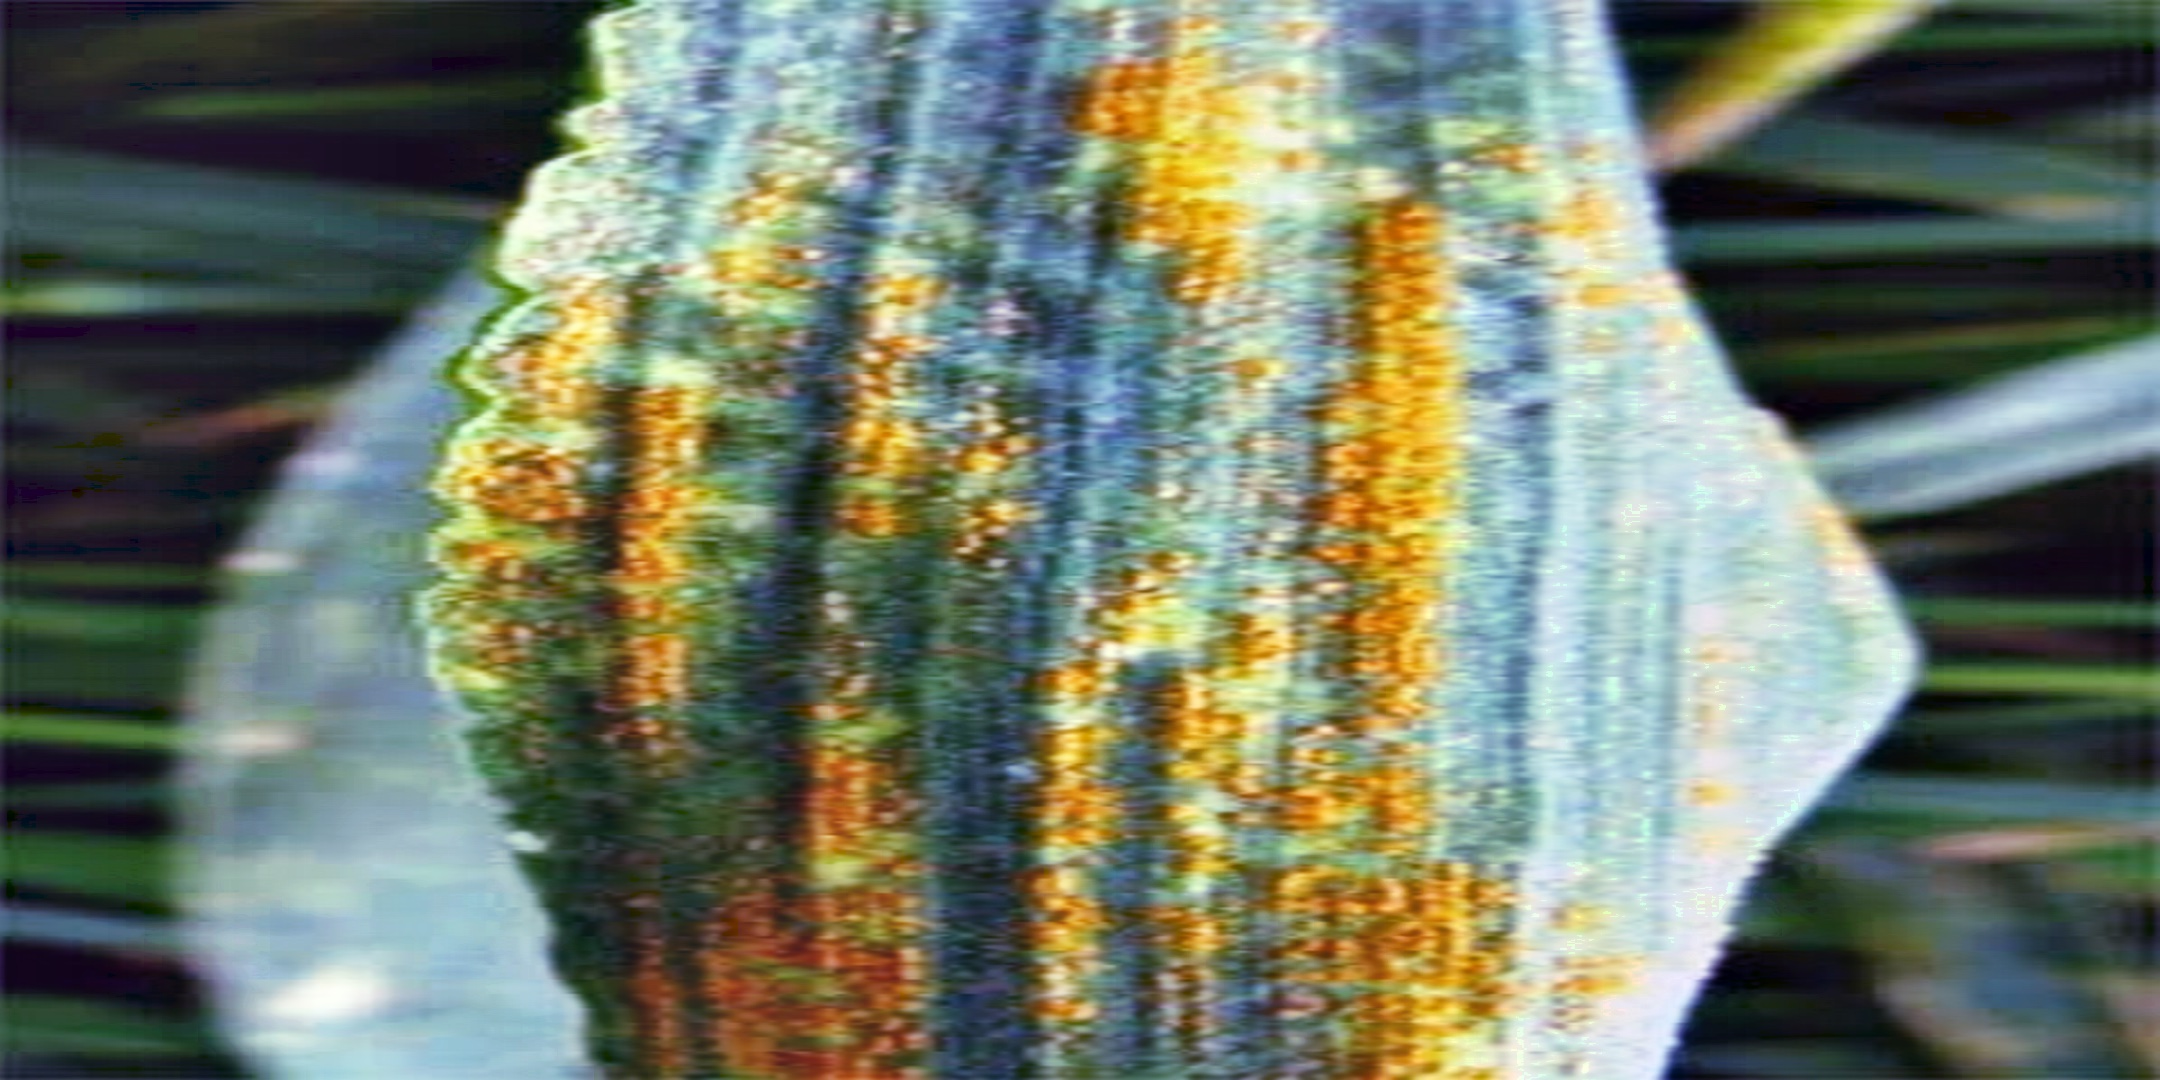Leaf Rust: (546, 236, 1564, 1043)
